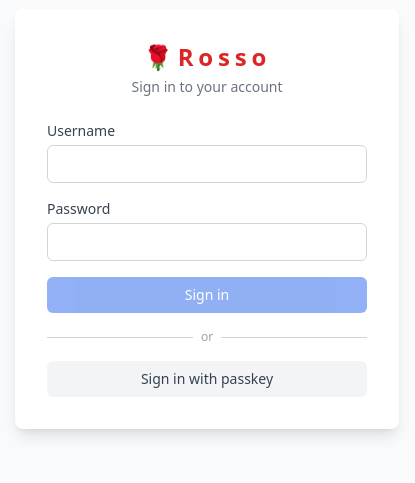
Scenario: Login › shows network error when backend is unreachable
The width and height of the screenshot is (415, 483).
Step 1. Type "alice" into the field → (207, 164), box [47,145,367,183]
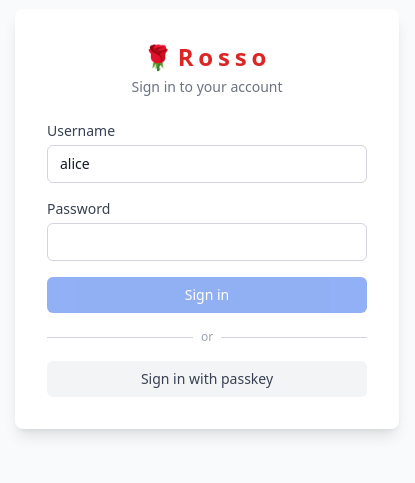
Step 2. Type "pw" into the password field → (207, 242), box [47,223,367,261]
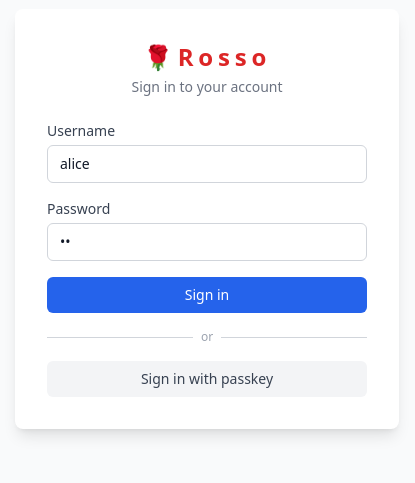
Step 3. Submit the form, box [47,121,367,313]
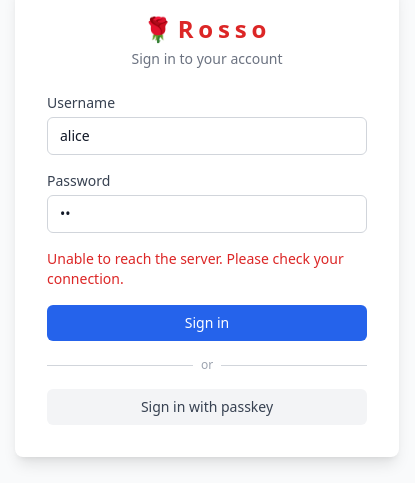
Expected: the text "Unable to reach the server" is shown, [47,249,344,288]
